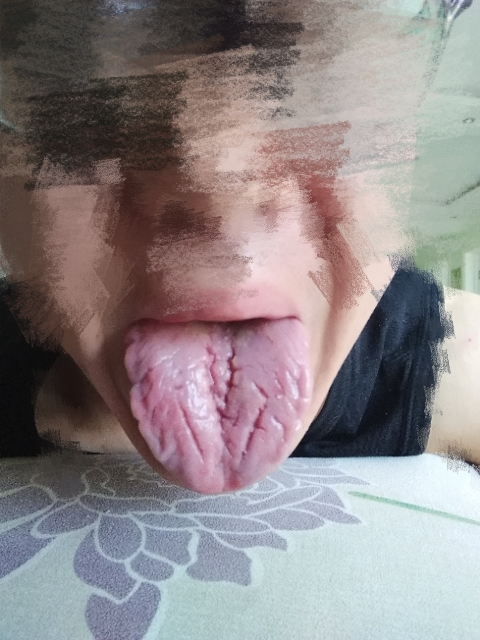baitaishe: (123, 320, 310, 495)
liewenshe: (202, 342, 270, 462), (141, 355, 205, 462)
